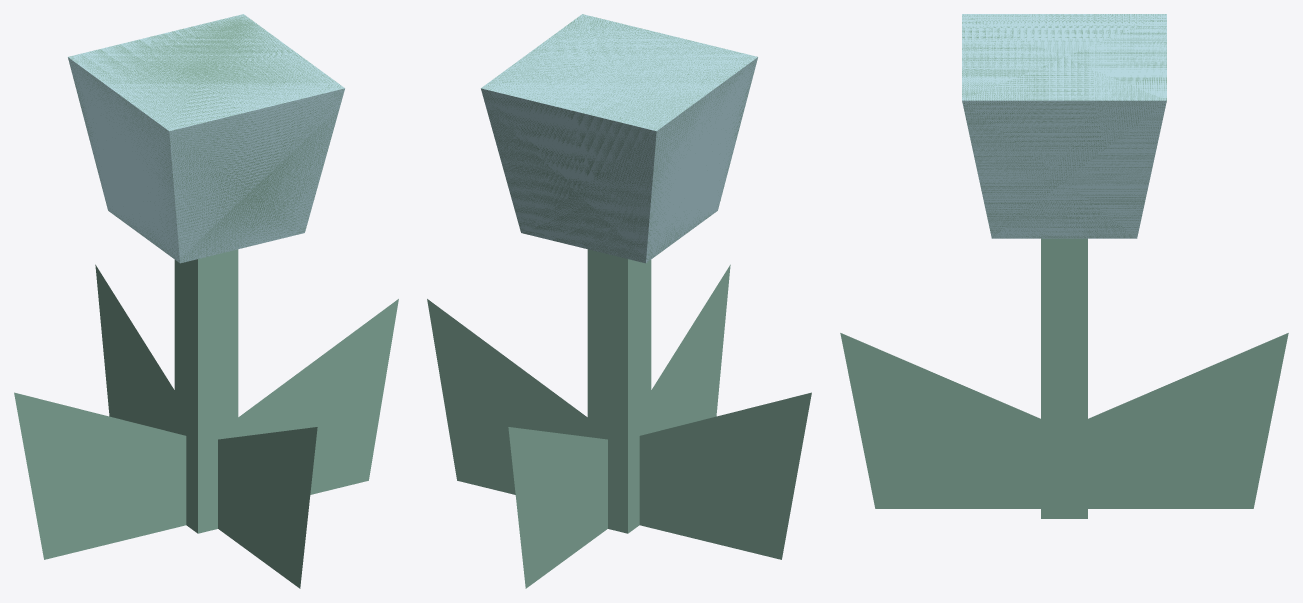
File: flower_tall_yellow_02.gltf
The picture shows the model from 3 angles, left to right: view 1: azimuth 30°, elevation 25°; view 2: azimuth 150°, elevation 25°; view 3: azimuth 270°, elevation 25°; orthographic projection.
Parts seen in each view (by area): view 1: Node31, Node24, Node18, Node25, Node19, Node26, Node29, Node20, Node11, Node12, Node27, Node30 (+4 smaller); view 2: Node22, Node31, Node18, Node26, Node23, Node20, Node28, Node19, Node27, Node5, Node29, Node15 (+4 smaller); view 3: Node16, Node27, Node29, Node30, Node18, Node1, Node17, Node2, Node19, Node28.
Part boxes in pixels (x1,y1,x2,y2): Node31: (14,392,186,559); Node24: (169,88,344,263); Node18: (68,14,344,130); Node25: (169,89,344,262); Node19: (69,14,342,130); Node26: (238,299,398,494); Node29: (218,427,317,588); Node20: (68,57,179,262); Node11: (198,249,238,533); Node12: (198,249,238,533); Node27: (95,265,174,432); Node30: (218,427,317,588); Node22: (481,88,656,263); Node31: (639,392,811,559); Node18: (481,14,757,131); Node26: (427,299,587,494); Node23: (481,89,656,262); Node20: (646,57,757,262); Node28: (508,427,607,587); Node19: (482,14,757,130); Node27: (508,427,607,588); Node5: (587,249,627,533); Node29: (651,264,730,432); Node15: (587,250,627,532); Node16: (962,100,1166,238); Node27: (1088,333,1288,508); Node29: (840,333,1040,508); Node30: (841,333,1040,508); Node18: (962,14,1166,100); Node1: (1041,238,1087,518); Node17: (962,100,1166,238); Node2: (1041,239,1087,518); Node19: (962,14,1166,100); Node28: (1088,334,1288,508).
Bounding box in the file's own units: 0.4859 × 0.54 × 0.4859.
